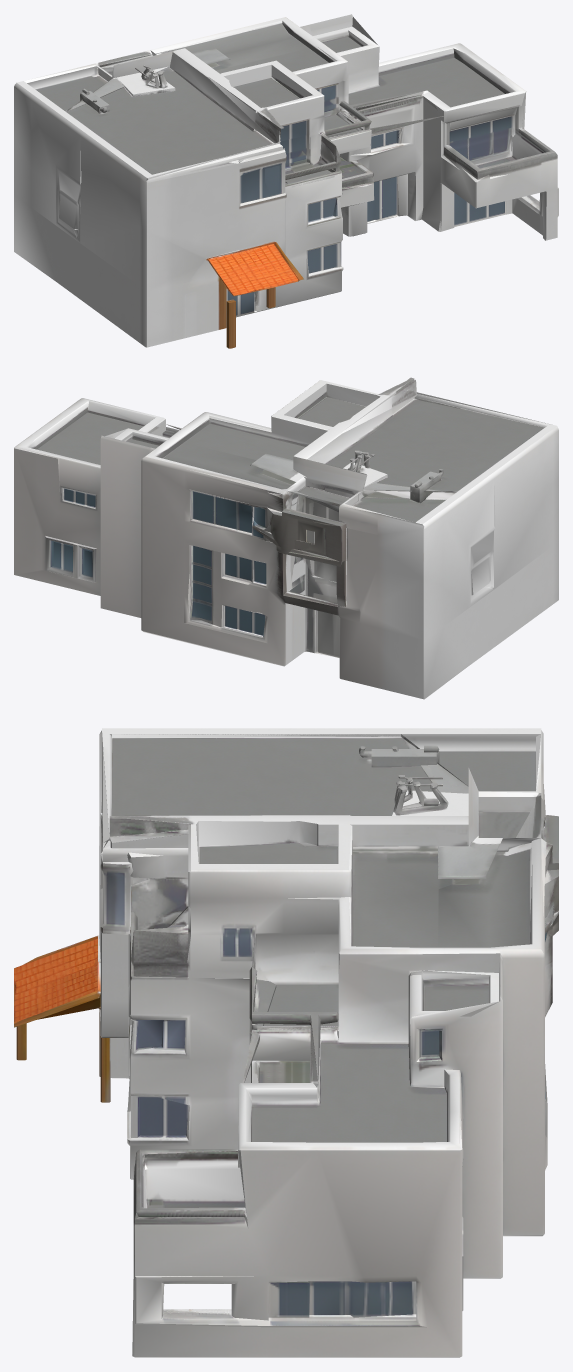
Rendered from placed_bld_556597979.glb.
3 renders of one model, top to bottom at view 1: azimuth 30°, elevation 25°; view 2: azimuth 150°, elevation 25°; view 3: azimuth 270°, elevation 25°, orthographic. The views are drawn at different scales.
Parts seen in each view (by area): view 1: bld_556597979; view 2: bld_556597979; view 3: bld_556597979.
Part boxes in pixels (x1,y1,x2,y2): bld_556597979: [14, 14, 558, 348]; bld_556597979: [14, 377, 558, 699]; bld_556597979: [14, 728, 558, 1357].
Bounding box in the file's own units: 16.33 × 6.8 × 10.77.
1 material, 1 textured.
